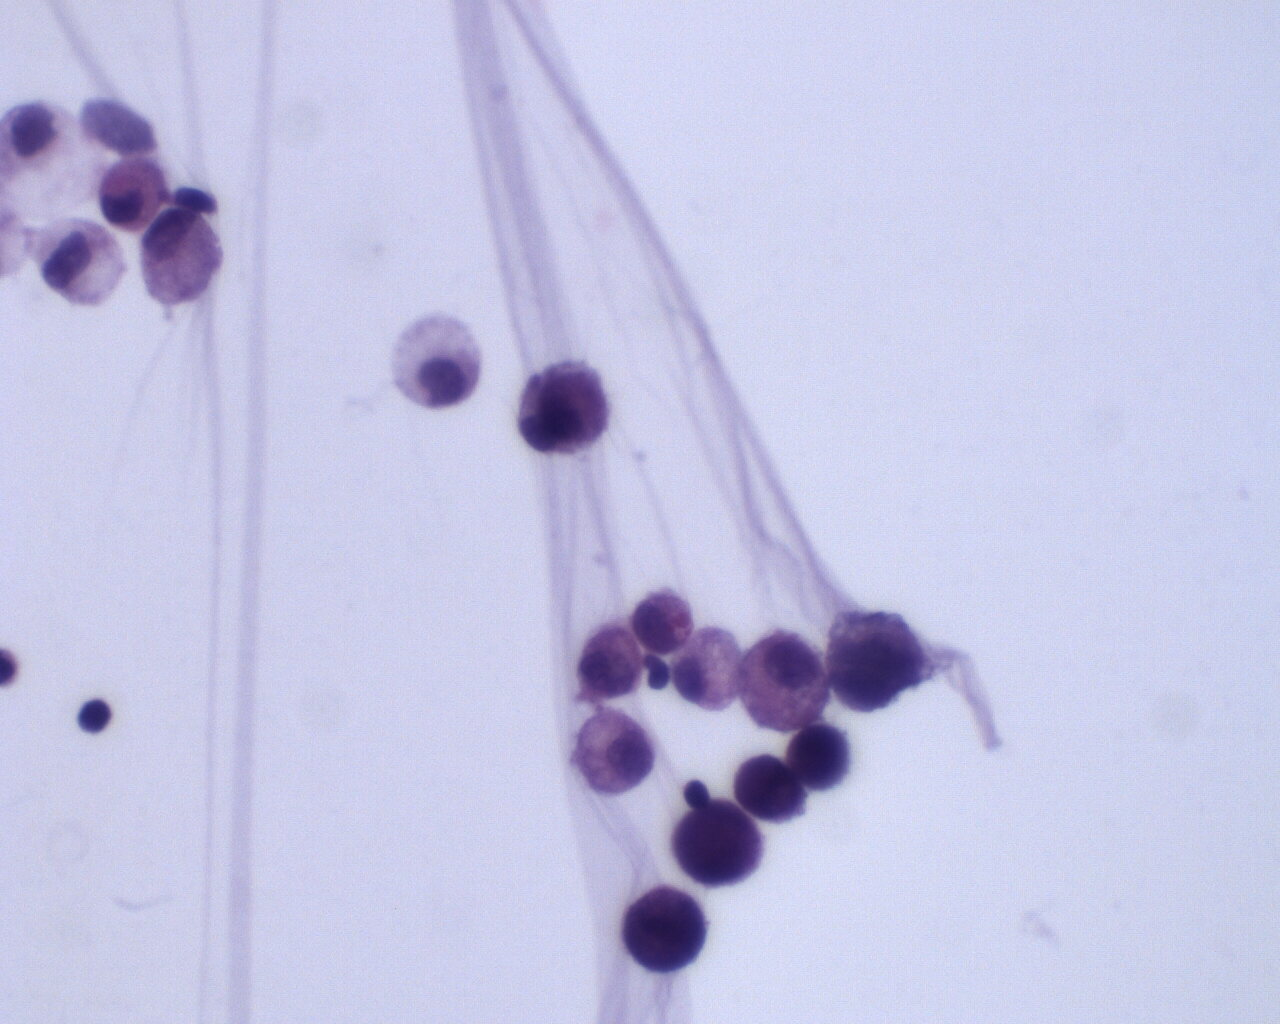ab: (829, 607, 933, 717), (619, 879, 709, 979), (670, 797, 763, 893), (735, 748, 807, 827), (788, 717, 853, 796), (578, 622, 643, 699)
histo: (135, 204, 226, 310), (391, 311, 484, 411), (673, 624, 748, 713)
lymph: (74, 692, 116, 740)
meso: (734, 625, 834, 735), (571, 705, 661, 797)
